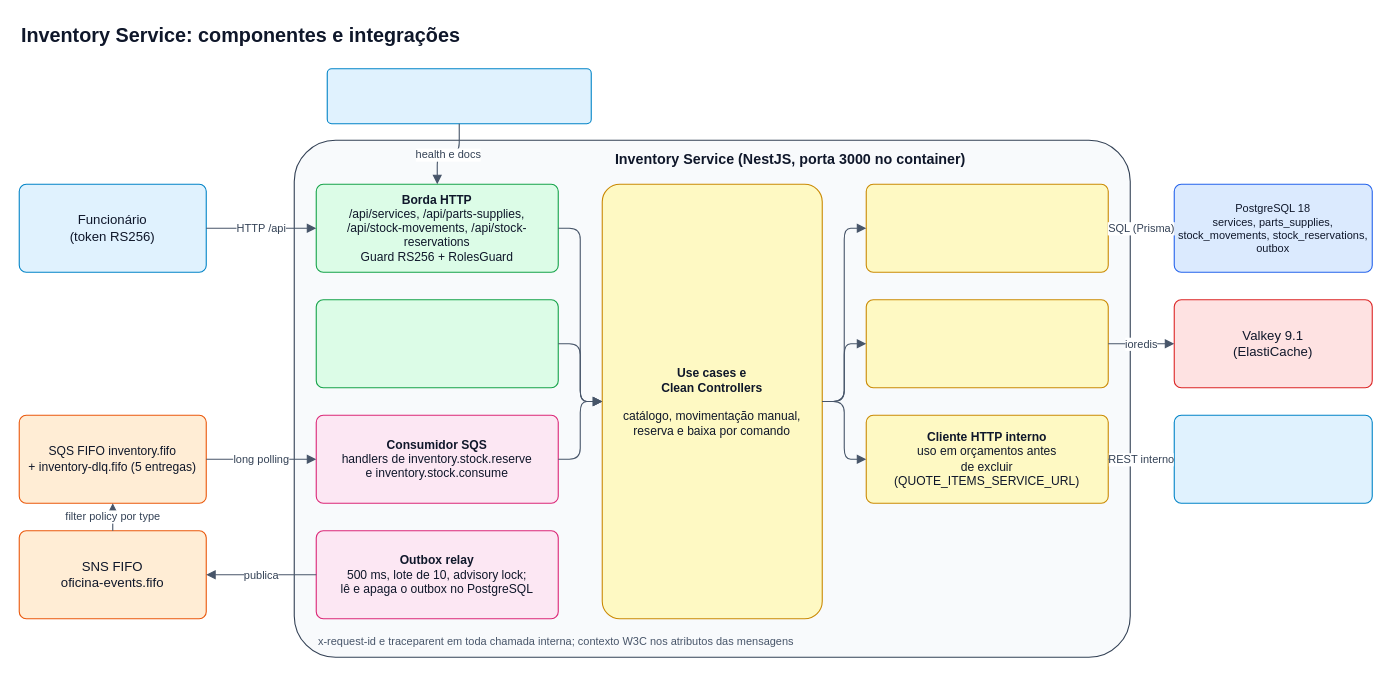
Image size: 1392x677. Some labels were removed from this diagram. Here are the shapes that lost their labels. From the top down, the box of each, then its label:
(326, 68, 591, 124): API Gateway / NLB só /health/inventory e /docs/inventory
(865, 183, 1108, 272): Repositórios Prisma + Unit of Work estado e outbox na mesma transação
(315, 299, 558, 388): Rotas internas GET /internal/services/:id GET /internal/parts-supplies/:id
(865, 299, 1108, 388): ICache (cache-aside) chave por id, TTL 12 h, invalidado depois do commit
(1173, 414, 1372, 503): Work Order (Saga; dono dos orçamentos)
